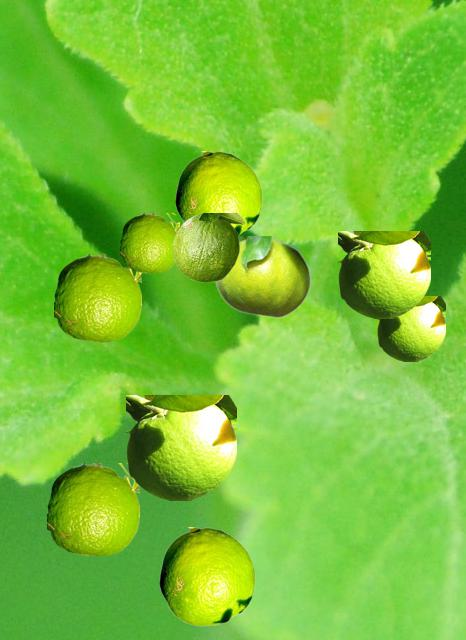dalandan: (126, 395, 235, 499), (159, 527, 254, 625), (47, 463, 138, 555), (338, 231, 429, 317), (215, 236, 310, 317), (54, 254, 140, 341), (175, 151, 261, 236), (172, 213, 244, 281), (377, 296, 444, 360), (120, 213, 178, 272)
